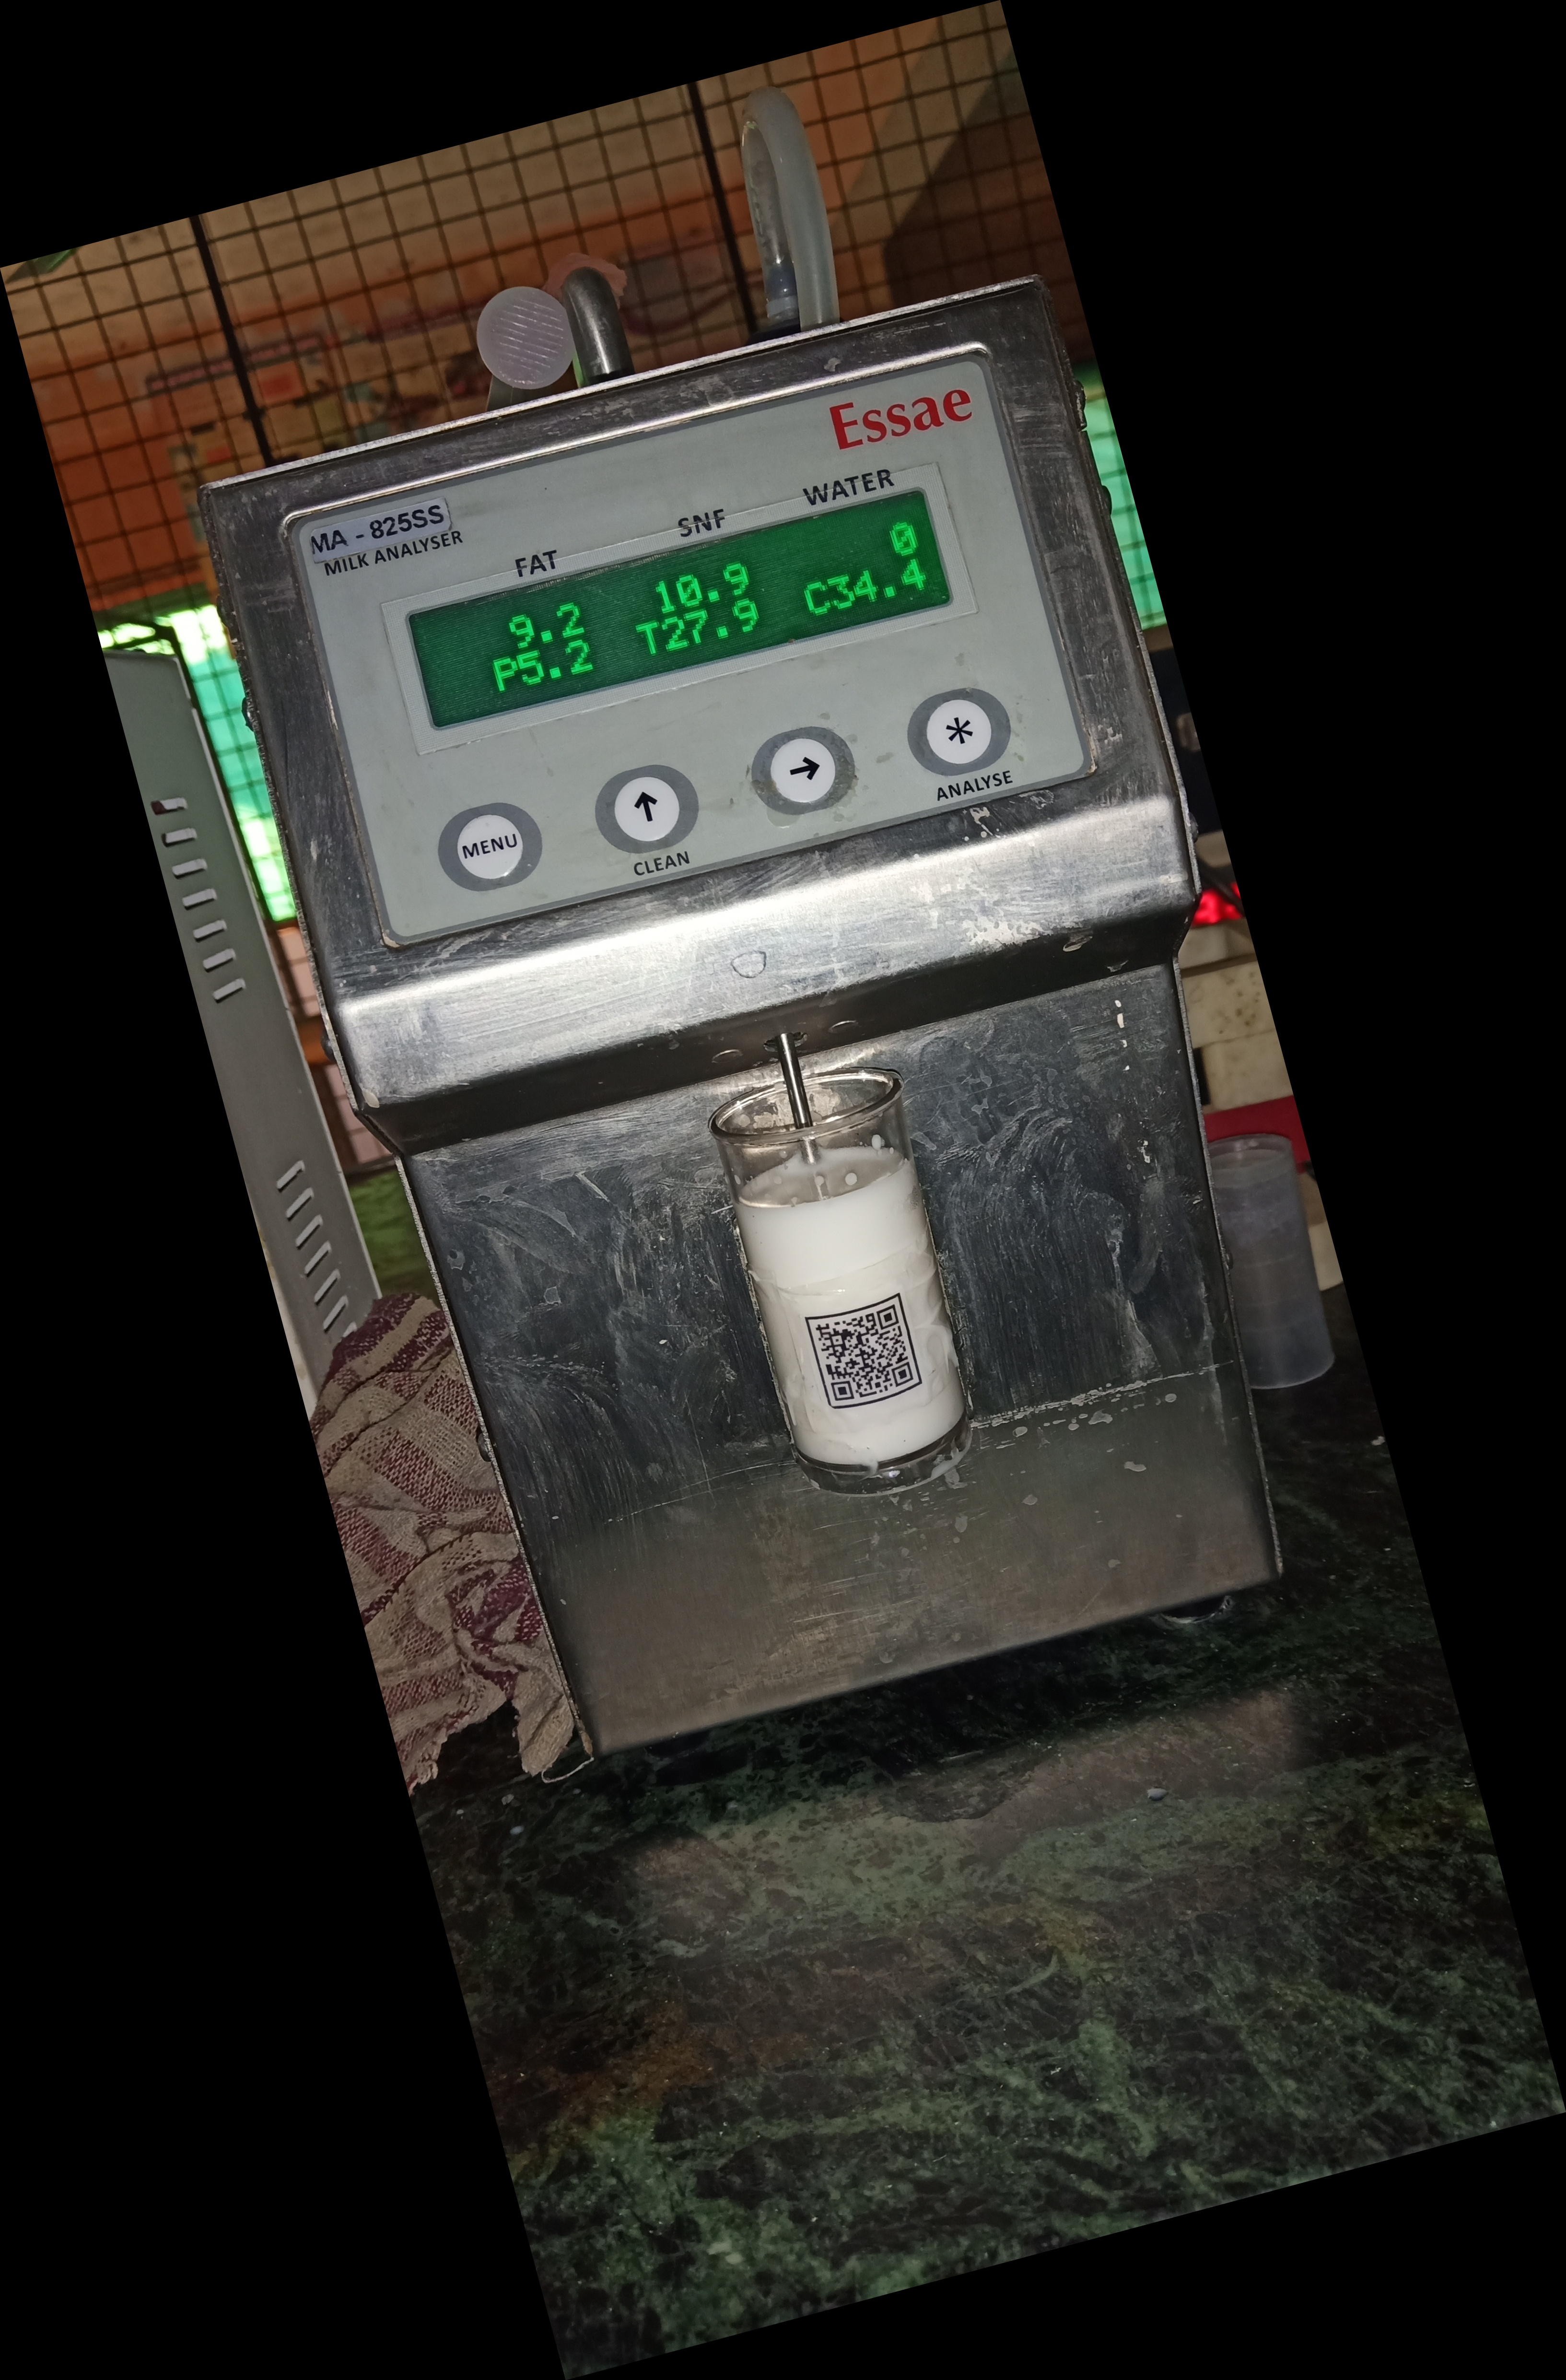lcd: (383, 486, 965, 743)
qr: (799, 1297, 932, 1412)
